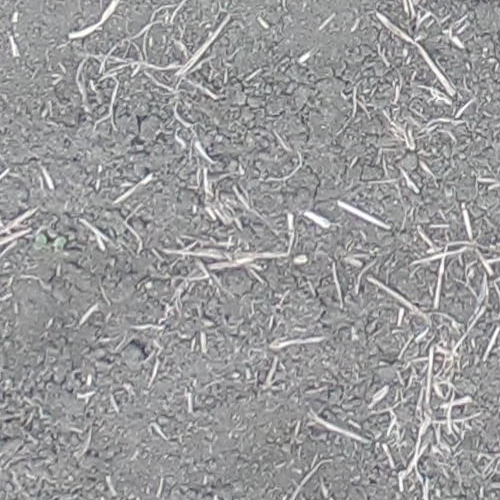plant: (35, 227, 67, 249)
